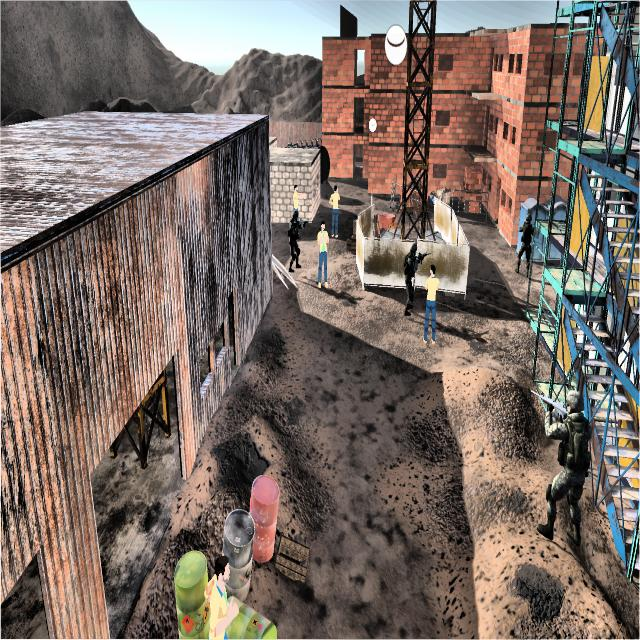bad: (522, 358, 602, 553), (396, 234, 422, 322), (511, 208, 535, 278), (287, 206, 304, 276)
good: (198, 559, 240, 640), (422, 264, 440, 346), (315, 220, 332, 290), (327, 182, 343, 241), (288, 179, 303, 210)
